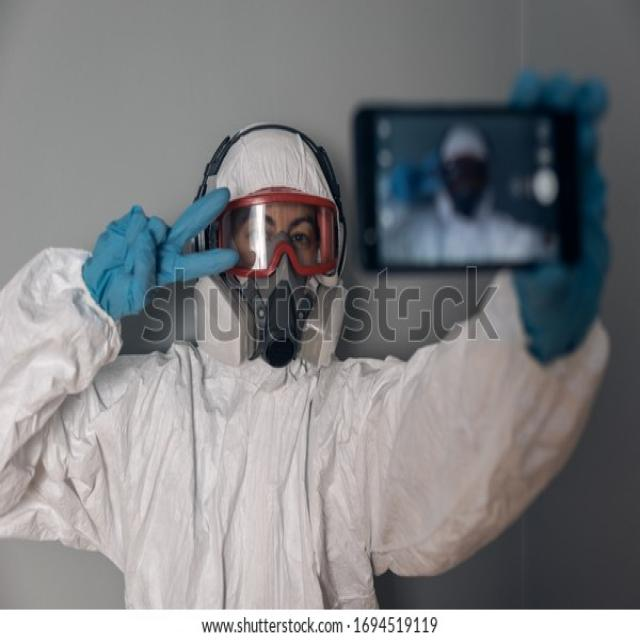Gloves: (78, 180, 252, 329)
